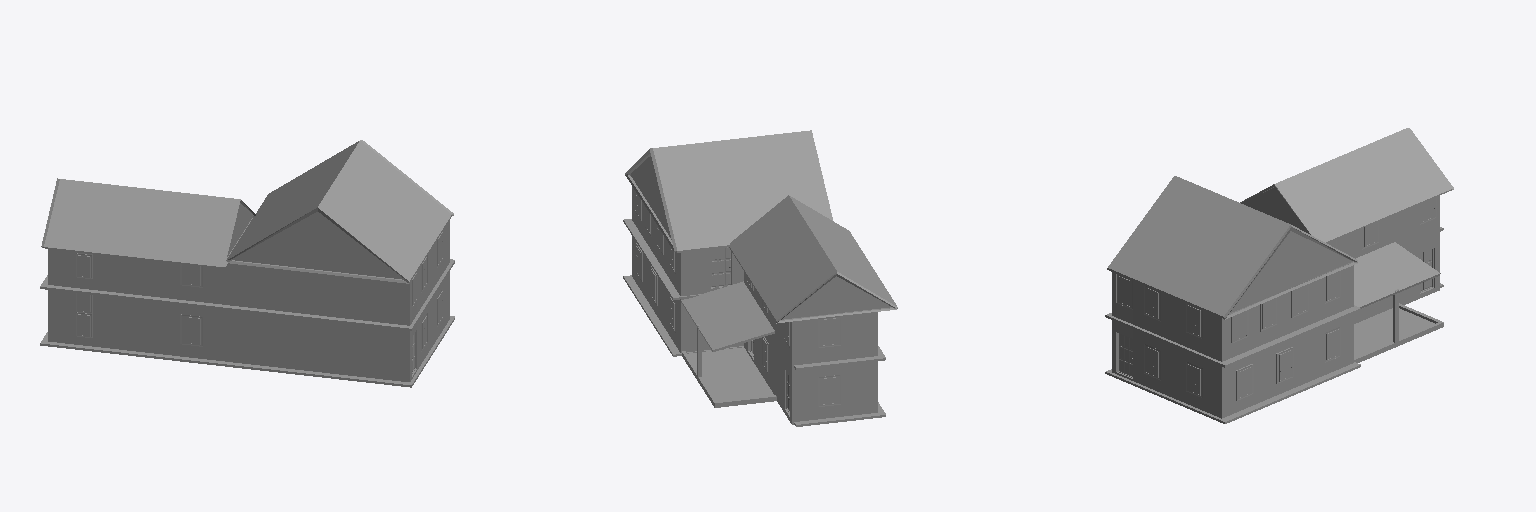
The model's file is depart.obj.
The picture shows the model from 3 angles: view 1: azimuth 30°, elevation 25°; view 2: azimuth 150°, elevation 25°; view 3: azimuth 270°, elevation 25°; orthographic projection.
Parts seen in each view (by area): view 1: pasted__group2_group_pasted__group1_pasted__pCube18, pasted__group2_group_pasted__pCube15_pasted__group1, pasted__group2_group_pasted__group1_pasted__polySurface1, pasted__group2_group_pasted__group1_pasted__pCube19, pasted__group2_group_pasted__group1_pasted__pCube21, pasted__group2_group_pasted__group1_pasted__pCube20; view 2: pasted__group2_group_pasted__group1_pasted__pCube18, pasted__group2_group_pasted__group1_pasted__pCube19, pasted__group2_group_pasted__pCube15_pasted__group1, pasted__group2_group_pasted__group1_pasted__polySurface1, pasted__group2_group_pasted__group1_pasted__pCube17, pasted__group2_group_pasted__group1_pasted__pCube16, pasted__group2_group_pasted__group1_pasted__pCube20, pasted__group2_group_pasted__group1_pasted__pCube21, pasted__group2_group_pasted__group1_pasted__pasted__door_pa.005; view 3: pasted__group2_group_pasted__group1_pasted__pCube18, pasted__group2_group_pasted__group1_pasted__pCube19, pasted__group2_group_pasted__pCube15_pasted__group1, pasted__group2_group_pasted__group1_pasted__polySurface1, pasted__group2_group_pasted__group1_pasted__pCube17, pasted__group2_group_pasted__group1_pasted__pCube16, pasted__group2_group_pasted__group1_pasted__pCube20, pasted__group2_group_pasted__group1_pasted__pCube21, pasted__group2_group_pasted__group1_pasted__pasted__door_pa.008.
Part boxes in pixels (x1,y1,x2,y2): pasted__group2_group_pasted__group1_pasted__pCube18: (226,140,453,283); pasted__group2_group_pasted__pCube15_pasted__group1: (48,271,449,381); pasted__group2_group_pasted__group1_pasted__polySurface1: (48,221,449,325); pasted__group2_group_pasted__group1_pasted__pCube19: (41,178,255,268); pasted__group2_group_pasted__group1_pasted__pCube21: (40,259,454,330); pasted__group2_group_pasted__group1_pasted__pCube20: (40,316,454,387); pasted__group2_group_pasted__group1_pasted__pCube18: (625,130,832,252); pasted__group2_group_pasted__group1_pasted__pCube19: (729,195,897,323); pasted__group2_group_pasted__pCube15_pasted__group1: (632,236,877,424); pasted__group2_group_pasted__group1_pasted__polySurface1: (632,187,877,365); pasted__group2_group_pasted__group1_pasted__pCube17: (681,281,774,351); pasted__group2_group_pasted__group1_pasted__pCube16: (688,347,773,400); pasted__group2_group_pasted__group1_pasted__pCube20: (623,275,885,426); pasted__group2_group_pasted__group1_pasted__pCube21: (623,219,885,370); pasted__group2_group_pasted__group1_pasted__pasted__door_pa.005: (711,247,730,286); pasted__group2_group_pasted__group1_pasted__pCube18: (1107,176,1357,319); pasted__group2_group_pasted__group1_pasted__pCube19: (1240,128,1453,242); pasted__group2_group_pasted__pCube15_pasted__group1: (1112,231,1443,418); pasted__group2_group_pasted__group1_pasted__polySurface1: (1112,196,1439,361); pasted__group2_group_pasted__group1_pasted__pCube17: (1354,242,1440,308); pasted__group2_group_pasted__group1_pasted__pCube16: (1354,308,1434,357); pasted__group2_group_pasted__group1_pasted__pCube20: (1105,283,1443,423); pasted__group2_group_pasted__group1_pasted__pCube21: (1105,227,1443,367); pasted__group2_group_pasted__group1_pasted__pasted__door_pa.008: (1119,333,1132,376).
Bounding box in the file's own units: 12.81 × 6.05 × 11.25.